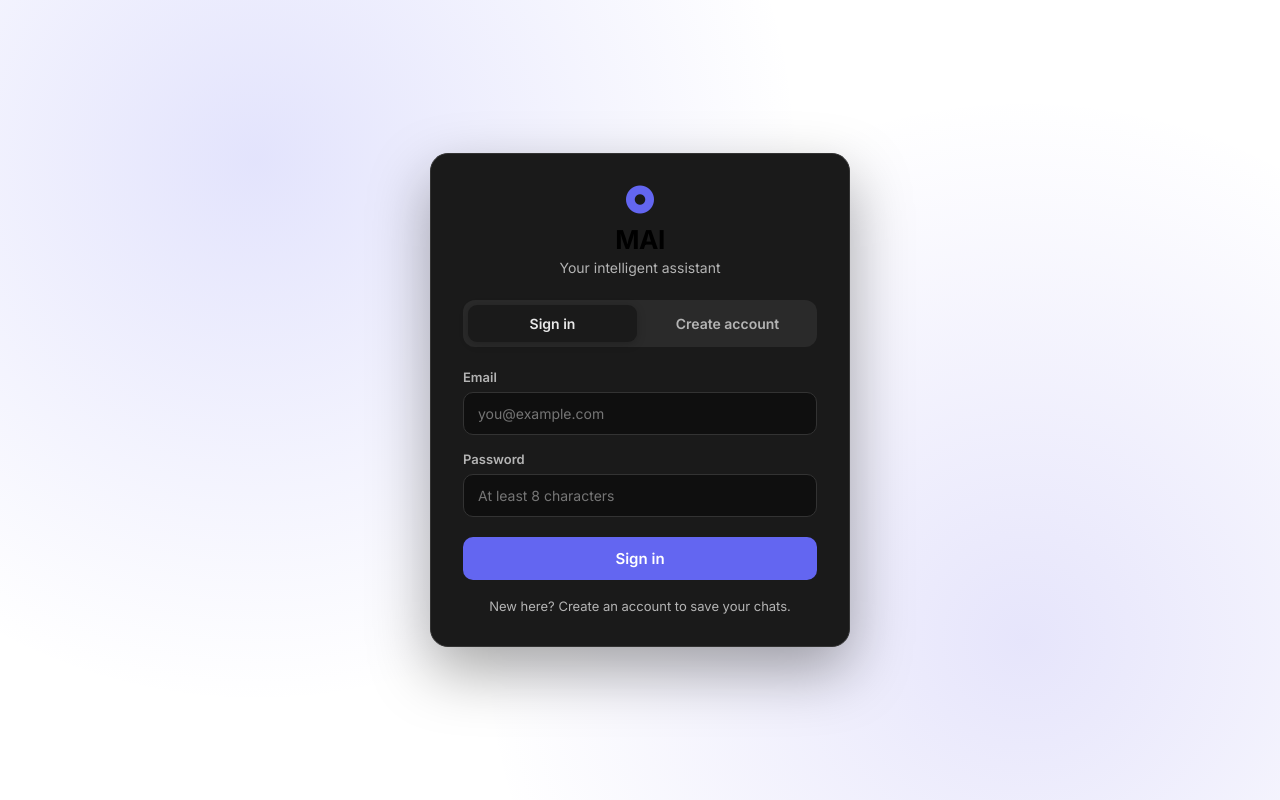
Test case: Auth › shows the server error message when sign in fails
Type "user@example.com" into the field labelled "Email" at x=640, y=414, box [463,392,817,435]
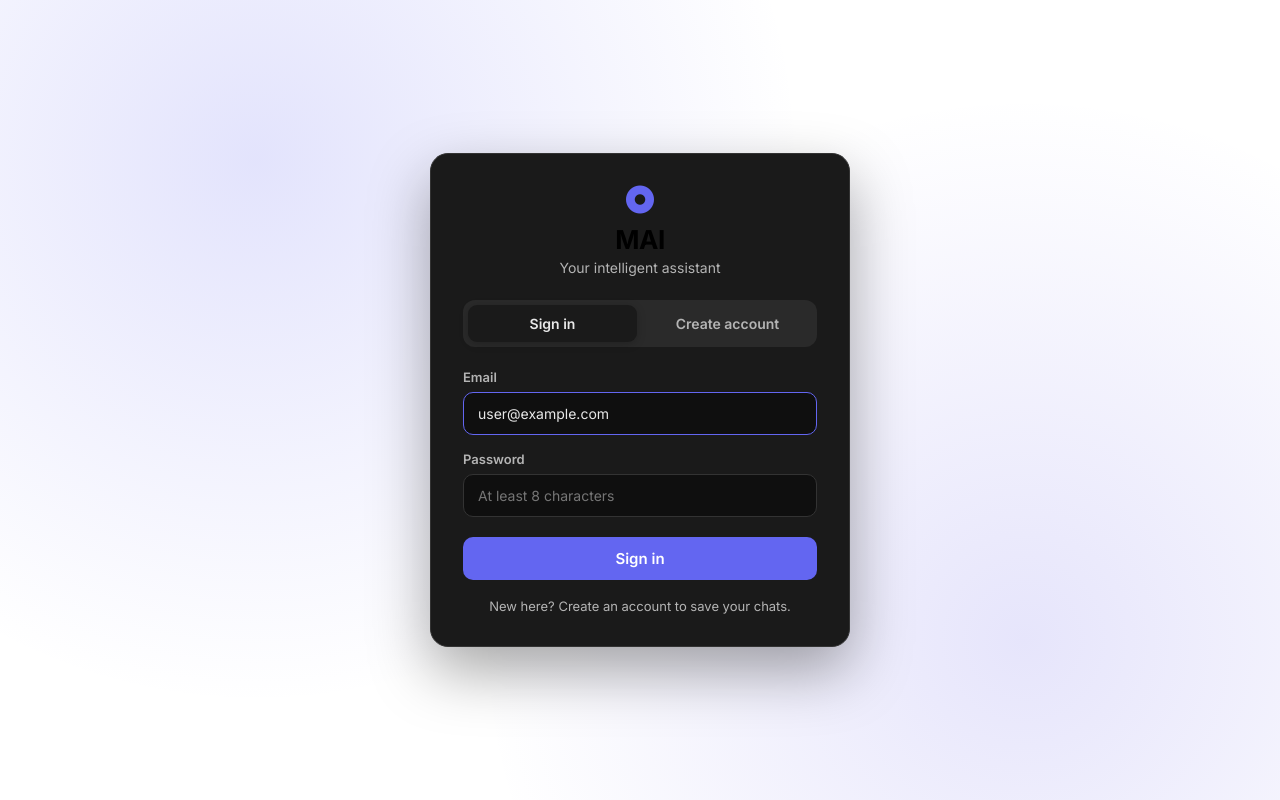
Type "password123" into the password field labelled "Password" at x=640, y=496, box [463,474,817,517]
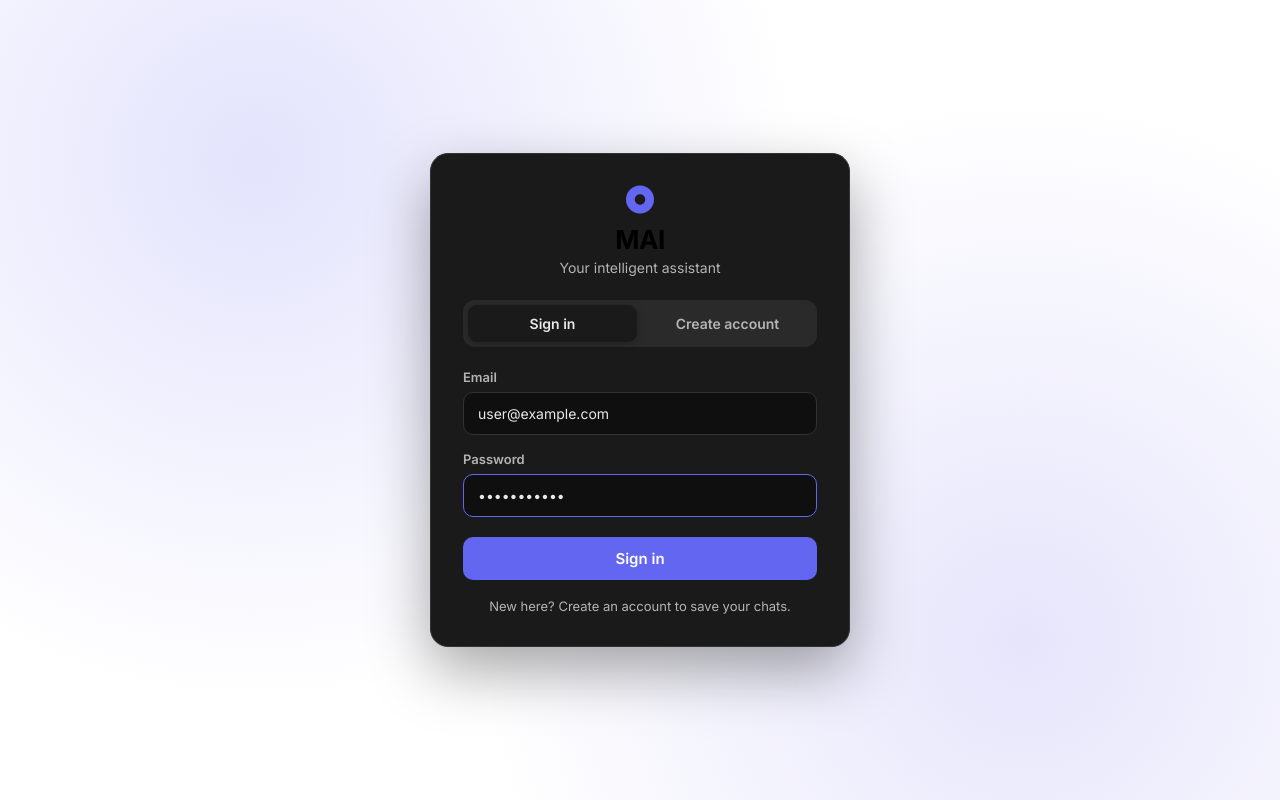
Click the button "Sign in" at x=640, y=558, box [463,537,817,580]
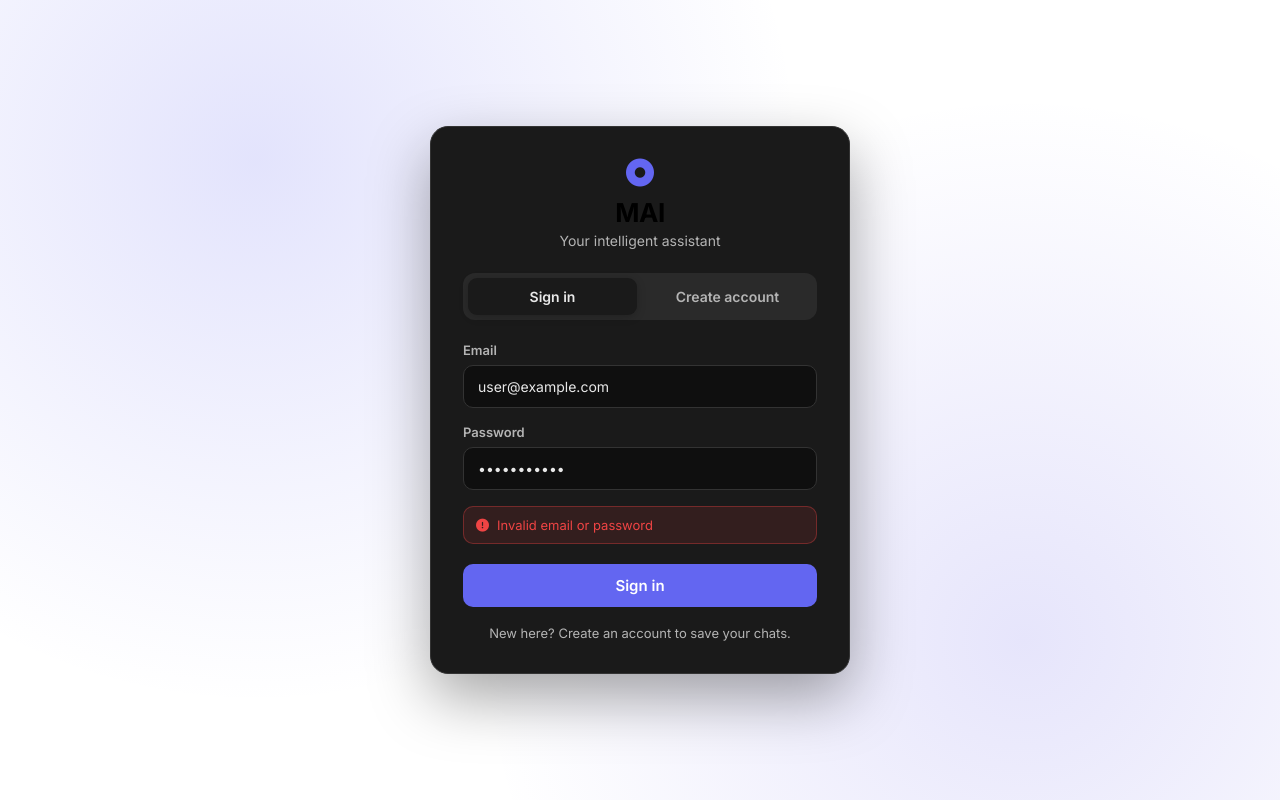
Now the message reads "Invalid email or password", box [497,517,653,533]
